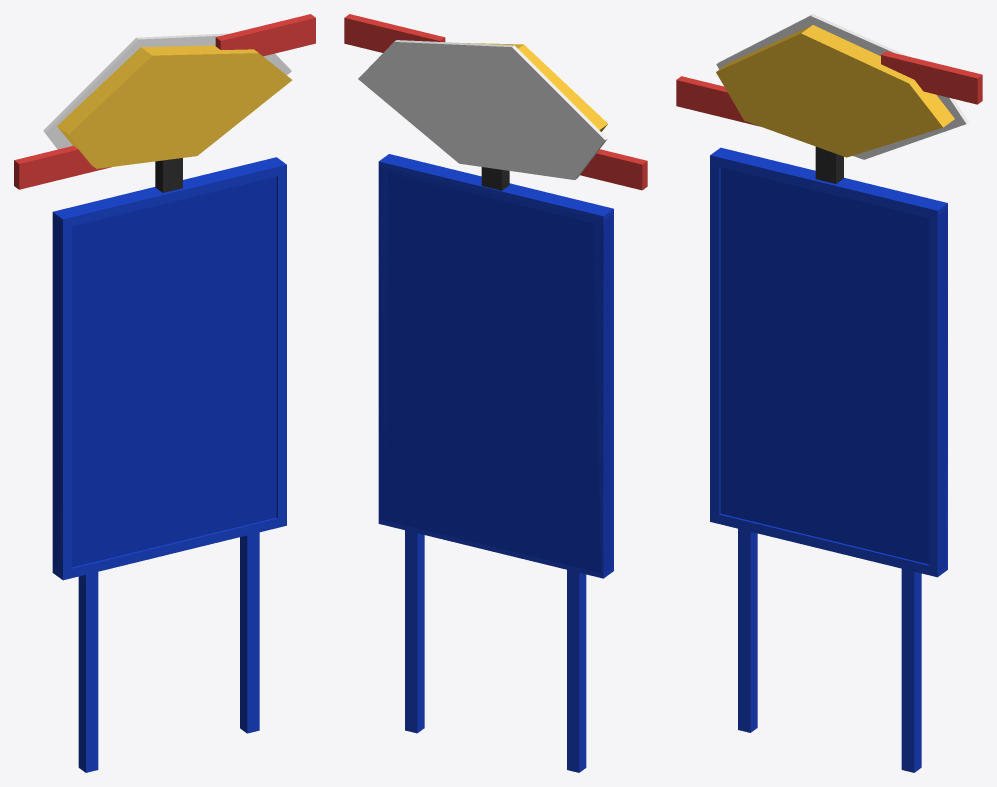
Rendered from sunoco_sign.obj.
3 views of the same model, side by side, from view 1: azimuth 30°, elevation 25°; view 2: azimuth 150°, elevation 25°; view 3: azimuth 330°, elevation 25° (orthographic).
Visible parts, largest first — view 1: SunocoSign; view 2: SunocoSign; view 3: SunocoSign.
Part boxes in pixels (<box>): SunocoSign: <box>14,14,315,772</box>; SunocoSign: <box>344,14,647,772</box>; SunocoSign: <box>676,14,982,772</box>.
Size of the model in its own units: 2.65 by 6.07 by 0.22.
